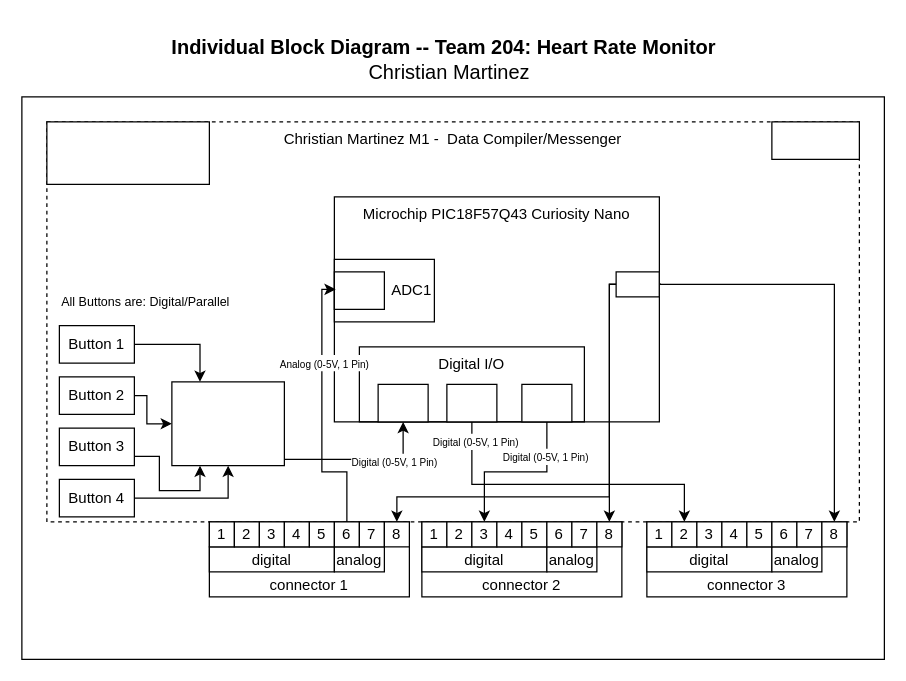
The diagram is 906 pixels wide and 681 high, and some of its shapes have lost their labels. Here are the shapes that lost their labels. From the top down, the centre of each, then its label:
point (127, 152): 5V, 1.5A Voltage Regulator Manufacturer Part #
point (815, 140): Blue LED (Power On)
point (358, 290): RA0
point (637, 284): GND
point (402, 402): RA2
point (471, 402): RA1
point (546, 402): RA3
point (227, 423): Shift register Manufacturer Part #
